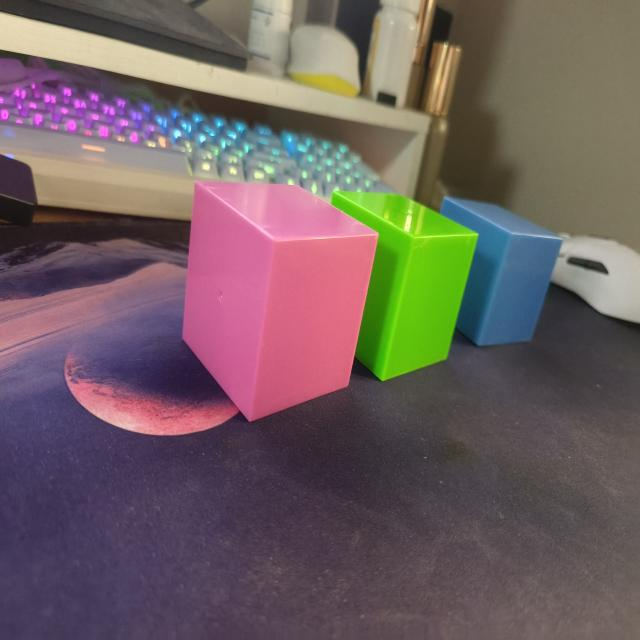blue: (439, 198, 566, 349)
green: (305, 184, 478, 383)
pink: (181, 181, 380, 424)
